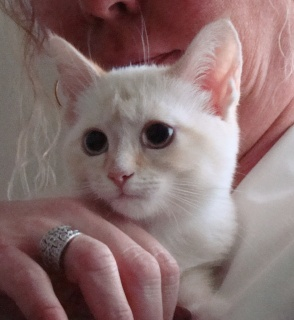Cat: (46, 24, 246, 315)
